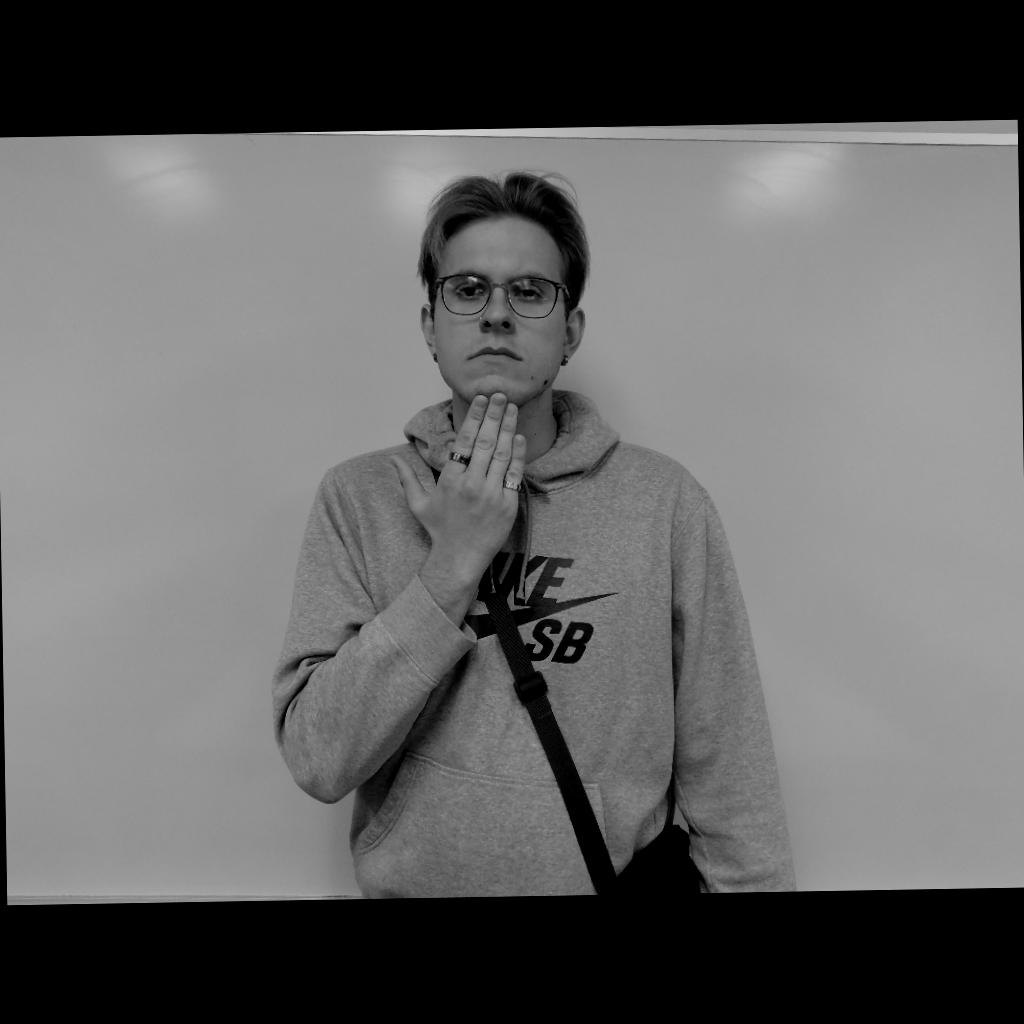thank-you: (390, 392, 527, 558)
